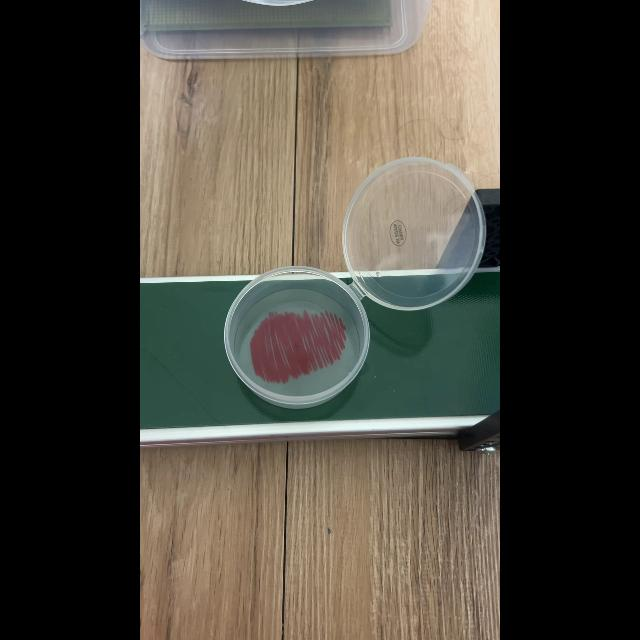dirty: (228, 281, 358, 399)
